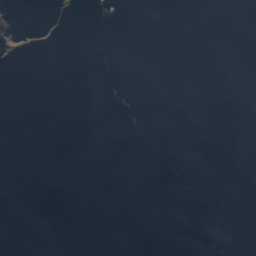Marine Debris: (110, 85, 151, 148)
